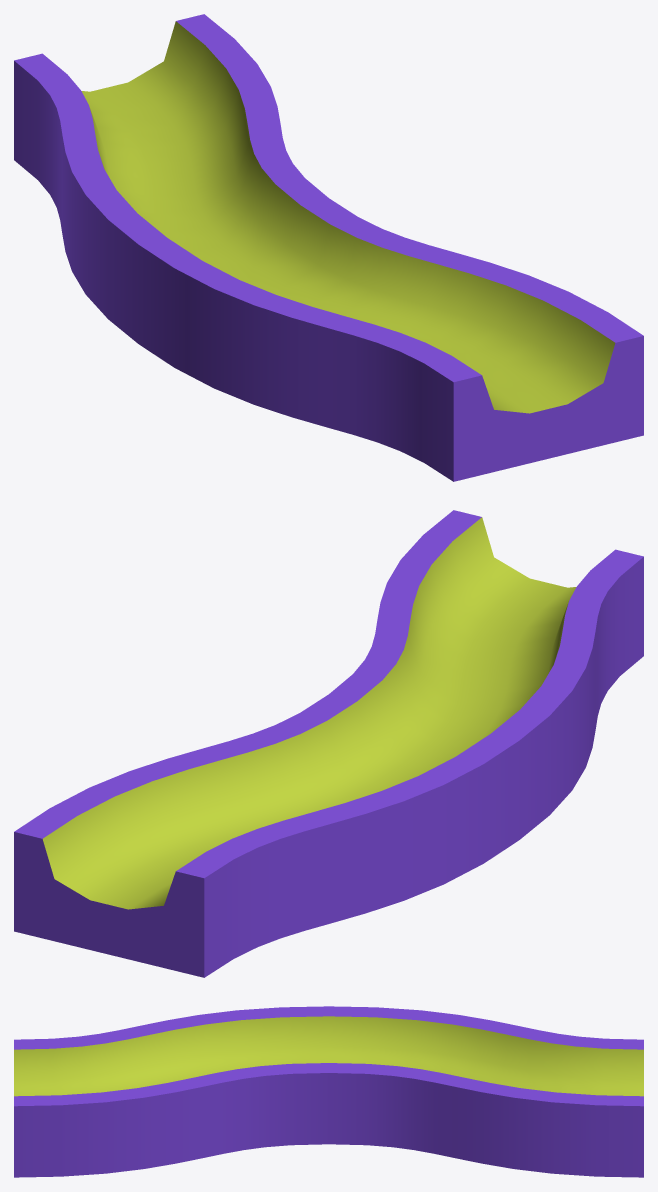
The model's file is wave_B-col.dae.
3 renders of one model, top to bottom at view 1: azimuth 30°, elevation 25°; view 2: azimuth 150°, elevation 25°; view 3: azimuth 270°, elevation 25°, orthographic. The views are drawn at different scales.
Parts seen in each view (by area): view 1: wave_B-col; view 2: wave_B-col; view 3: wave_B-col.
Boxes of the visible parts, left/top/right/bottom form: wave_B-col: left=14, top=14, right=643, bottom=481; wave_B-col: left=14, top=510, right=643, bottom=977; wave_B-col: left=14, top=1006, right=643, bottom=1177.
Size of the model in its own units: 1.5 by 4 by 0.5.
